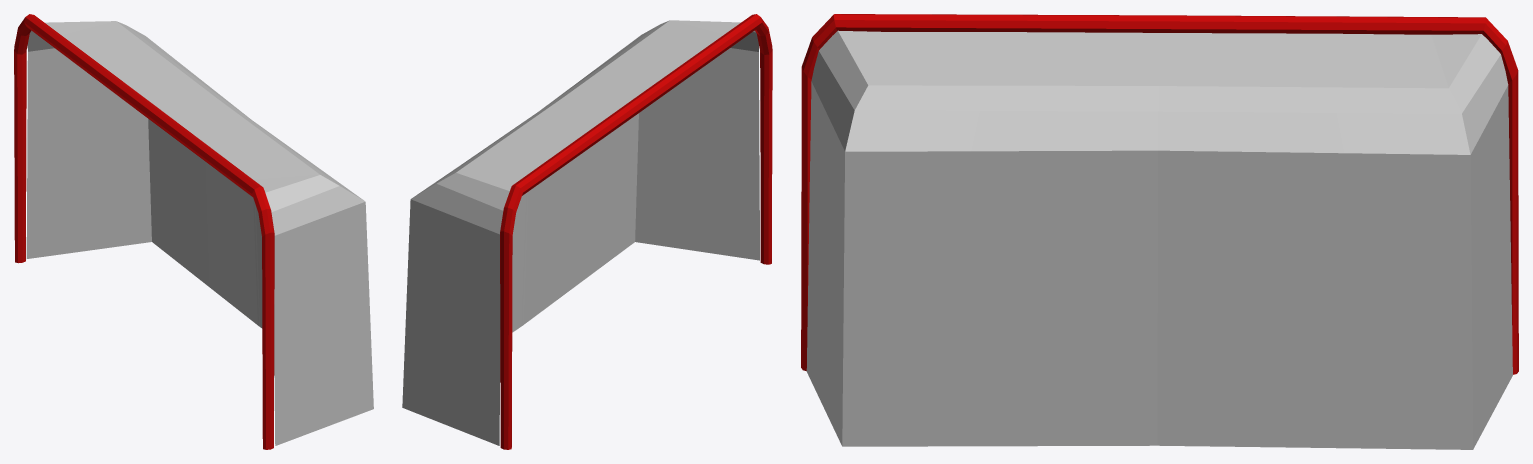
The model's file is Mesh_Net.obj.
3 renders of one model, left to right at view 1: azimuth 30°, elevation 25°; view 2: azimuth 150°, elevation 25°; view 3: azimuth 270°, elevation 25°, orthographic. The views are drawn at different scales.
Visible parts, largest first — view 1: Net_Cylinder; view 2: Net_Cylinder; view 3: Net_Cylinder.
Boxes of the visible parts, x1=… form: Net_Cylinder: x1=14, y1=14, x2=373, y2=449; Net_Cylinder: x1=402, y1=14, x2=772, y2=449; Net_Cylinder: x1=801, y1=14, x2=1518, y2=449.
Size of the model in its own units: 0.1552 by 0.2923 by 0.5373.
